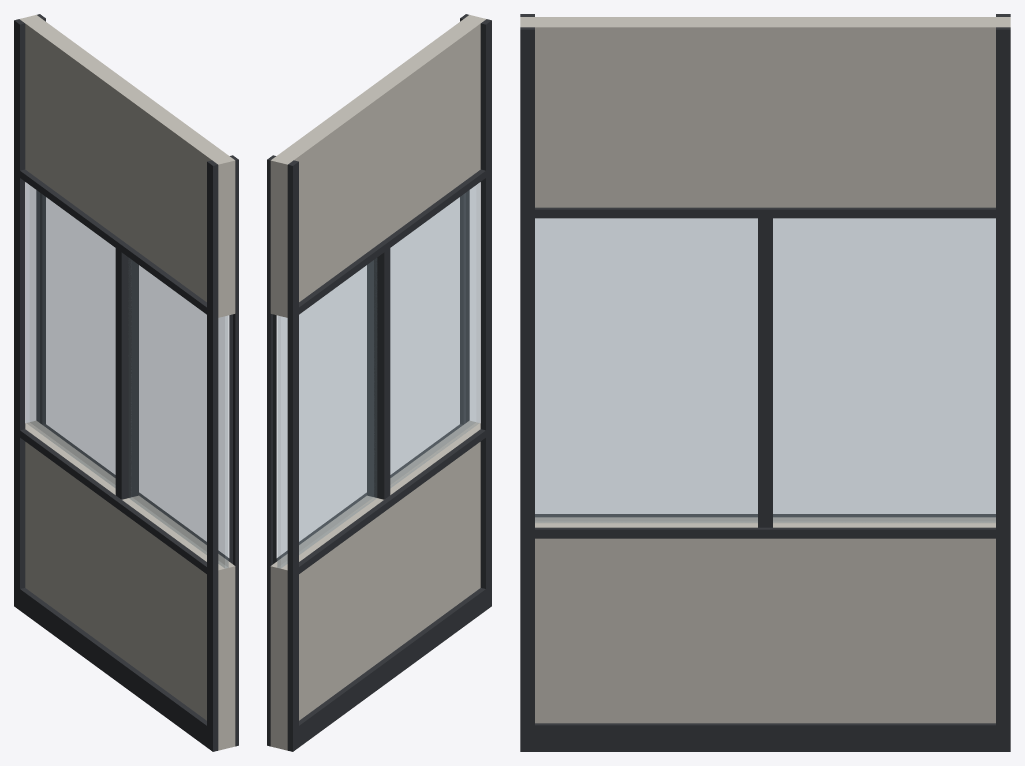
Rendered from ws_partition_window.glb.
3 renders of one model, left to right at view 1: azimuth 30°, elevation 25°; view 2: azimuth 150°, elevation 25°; view 3: azimuth 270°, elevation 25°, orthographic. The views are drawn at different scales.
Parts seen in each view (by area): view 1: ws_partition_window; view 2: ws_partition_window; view 3: ws_partition_window.
Boxes of the visible parts, <box> form: ws_partition_window: <box>14,14,238,751</box>; ws_partition_window: <box>267,14,491,751</box>; ws_partition_window: <box>520,14,1010,751</box>.
Size of what is drawn, in the model's own units: 0.15 by 3.25 by 2.
